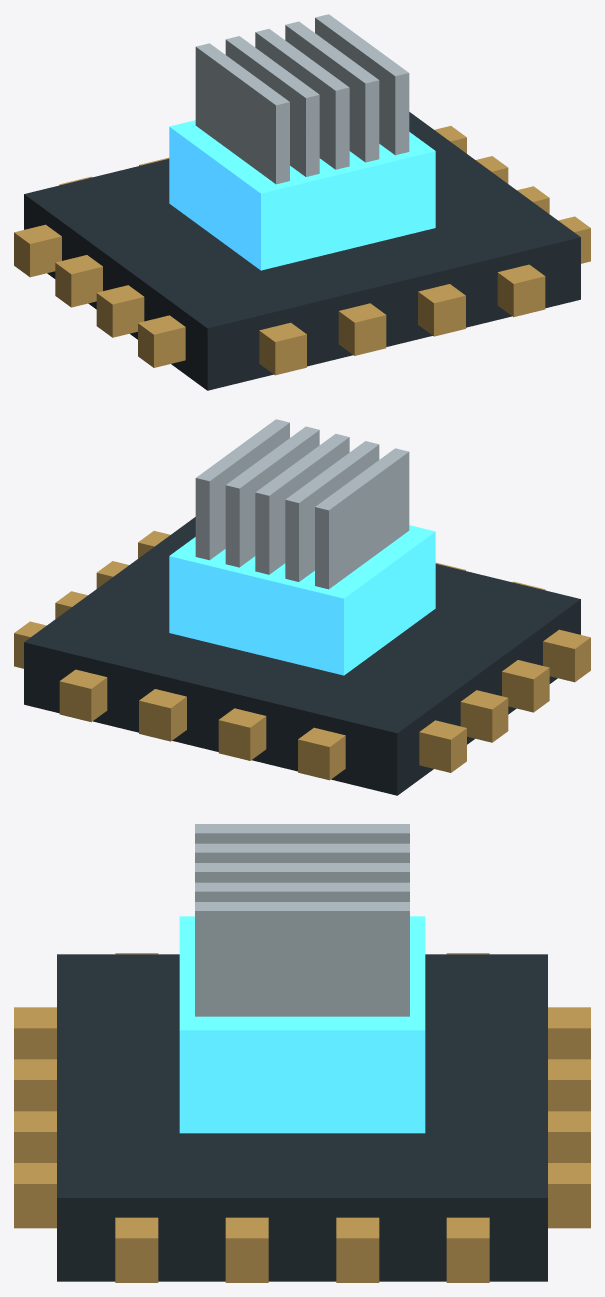
File: plugin-security-core.glb
3 renders of one model, top to bottom at view 1: azimuth 30°, elevation 25°; view 2: azimuth 150°, elevation 25°; view 3: azimuth 270°, elevation 25°, orthographic. The views are drawn at different scales.
Parts seen in each view (by area): view 1: plugin circuit substrate, processor block, heatsink fin, heatsink fin.003, heatsink fin.004, heatsink fin.002, heatsink fin.001, gold edge connector.011, gold edge connector.009, gold edge connector, gold edge connector.010, gold edge connector.008 (+4 smaller); view 2: plugin circuit substrate, processor block, heatsink fin, heatsink fin.003, heatsink fin.004, heatsink fin.002, heatsink fin.001, gold edge connector.015, gold edge connector.013, gold edge connector.003, gold edge connector.014, gold edge connector.012 (+4 smaller); view 3: plugin circuit substrate, processor block, heatsink fin.004, heatsink fin, heatsink fin.001, heatsink fin.002, heatsink fin.003, gold edge connector.004, gold edge connector.005, gold edge connector.006, gold edge connector.007, gold edge connector.011 (+7 smaller).
Part boxes in pixels (left/top/right/bottom): plugin circuit substrate: left=24, top=112, right=580, bottom=390; processor block: left=169, top=120, right=435, bottom=270; heatsink fin: left=195, top=43, right=289, bottom=184; heatsink fin.003: left=285, top=21, right=379, bottom=162; heatsink fin.004: left=315, top=14, right=409, bottom=155; heatsink fin.002: left=255, top=29, right=349, bottom=169; heatsink fin.001: left=225, top=36, right=319, bottom=176; gold edge connector.011: left=497, top=264, right=545, bottom=317; gold edge connector.009: left=338, top=303, right=386, bottom=355; gold edge connector: left=138, top=315, right=185, bottom=367; gold edge connector.010: left=418, top=284, right=465, bottom=336; gold edge connector.008: left=259, top=322, right=306, bottom=375; plugin circuit substrate: left=24, top=517, right=580, bottom=795; processor block: left=169, top=525, right=435, bottom=675; heatsink fin: left=315, top=448, right=409, bottom=589; heatsink fin.003: left=225, top=426, right=319, bottom=567; heatsink fin.004: left=195, top=419, right=289, bottom=560; heatsink fin.002: left=255, top=434, right=349, bottom=574; heatsink fin.001: left=285, top=441, right=379, bottom=581; gold edge connector.015: left=59, top=669, right=107, bottom=722; gold edge connector.013: left=218, top=708, right=266, bottom=760; gold edge connector.003: left=419, top=720, right=466, bottom=772; gold edge connector.014: left=139, top=689, right=186, bottom=741; gold edge connector.012: left=298, top=727, right=345, bottom=780; plugin circuit substrate: left=57, top=954, right=547, bottom=1281; processor block: left=179, top=916, right=425, bottom=1133; heatsink fin.004: left=195, top=902, right=409, bottom=1016; heatsink fin: left=195, top=824, right=409, bottom=843; heatsink fin.001: left=195, top=843, right=409, bottom=862; heatsink fin.002: left=195, top=863, right=409, bottom=882; heatsink fin.003: left=195, top=882, right=409, bottom=901; gold edge connector.004: left=115, top=1217, right=158, bottom=1282; gold edge connector.005: left=225, top=1217, right=268, bottom=1282; gold edge connector.006: left=336, top=1217, right=379, bottom=1282; gold edge connector.007: left=446, top=1217, right=489, bottom=1282; gold edge connector.011: left=14, top=1163, right=56, bottom=1228.
Bounding box in the file's own units: 1.1 × 0.525 × 0.94.
